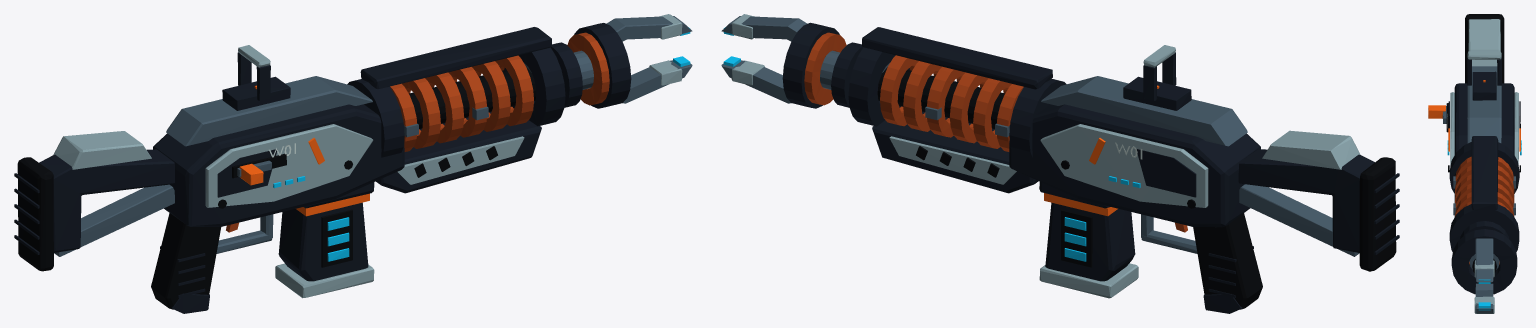
3 renders of one model, left to right at view 1: azimuth 30°, elevation 25°; view 2: azimuth 150°, elevation 25°; view 3: azimuth 270°, elevation 25°, orthographic. The views are drawn at different scales.
Visible parts, largest first — view 1: W01_mesh_body, W01_mesh_coil, W01_mesh_mag, W01_mesh_prongU, W01_mesh_prongD, W01_mesh_bolt; view 2: W01_mesh_body, W01_mesh_coil, W01_mesh_mag, W01_mesh_prongU, W01_mesh_prongD; view 3: W01_mesh_body, W01_mesh_coil, W01_mesh_prongU, W01_mesh_prongD, W01_mesh_bolt.
Part boxes in pixels (x1=…): W01_mesh_body: x1=14, y1=23, x2=631, y2=313; W01_mesh_coil: x1=390, y1=55, x2=533, y2=151; W01_mesh_mag: x1=275, y1=193, x2=374, y2=298; W01_mesh_prongU: x1=606, y1=14, x2=692, y2=41; W01_mesh_prongD: x1=622, y1=56, x2=692, y2=103; W01_mesh_bolt: x1=237, y1=160, x2=271, y2=185; W01_mesh_body: x1=782, y1=22, x2=1399, y2=313; W01_mesh_coil: x1=880, y1=55, x2=1023, y2=151; W01_mesh_mag: x1=1039, y1=193, x2=1138, y2=298; W01_mesh_prongU: x1=721, y1=14, x2=807, y2=41; W01_mesh_prongD: x1=721, y1=56, x2=791, y2=103; W01_mesh_body: x1=1446, y1=14, x2=1521, y2=294; W01_mesh_coil: x1=1453, y1=156, x2=1515, y2=216; W01_mesh_prongU: x1=1474, y1=238, x2=1494, y2=283; W01_mesh_prongD: x1=1474, y1=283, x2=1494, y2=313; W01_mesh_bolt: x1=1428, y1=105, x2=1446, y2=123.
Size of the model in its own units: 5.82 by 2.05 by 0.9074.
8 materials, 8 textured.
